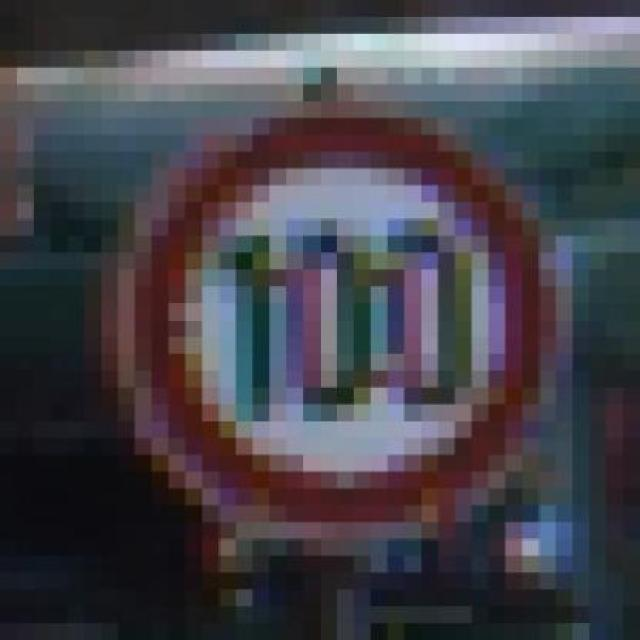forb_speed_over_100: (137, 113, 543, 525)
